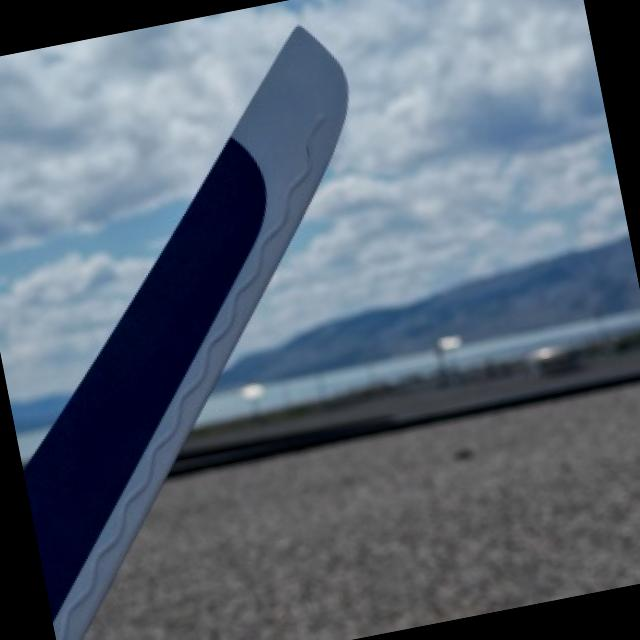healthy: (23, 24, 345, 640)
